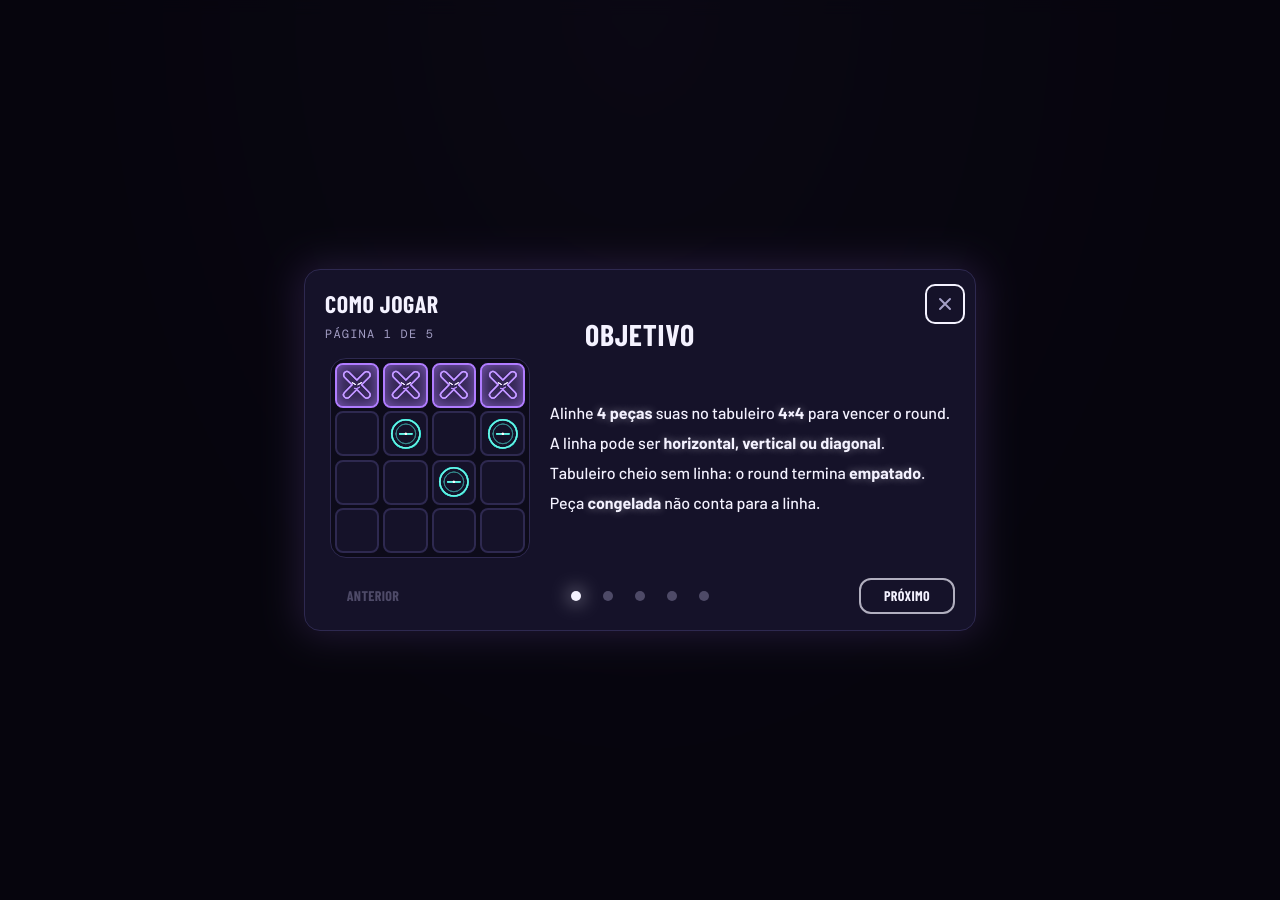
Scenario: HowToPlayModal — carrossel das habilidades › mostra nome, tipo e descrição de ABILITY_INFO, uma habilidade por vez
Click the button named "Página 3 de 5: Habilidades". click: (640, 596)
box: [624, 580, 656, 612]
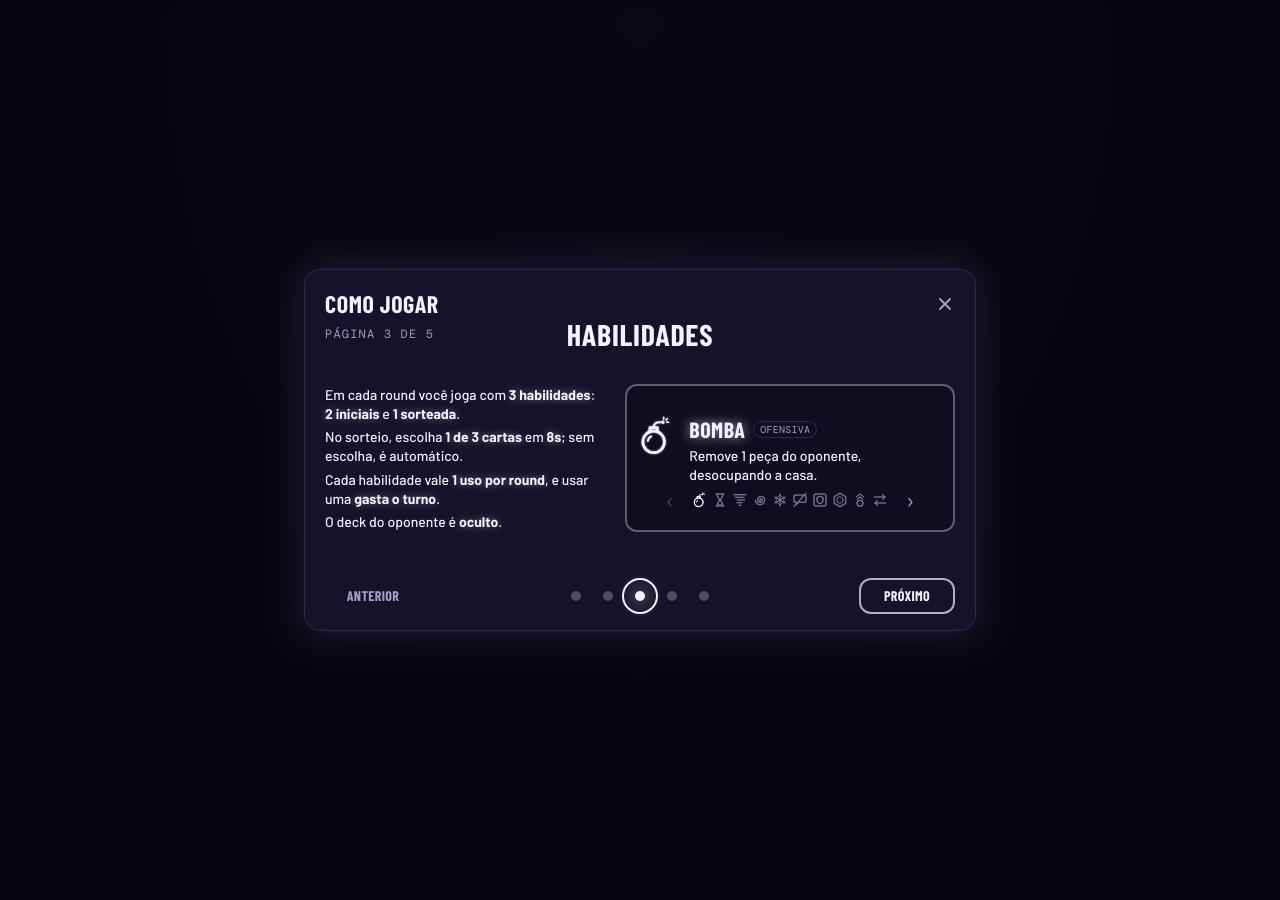
Expected: the text "Bomba" is shown, [689, 416, 745, 444]
Expected: the text "Remove 1 peça do oponente, desocupando a casa." is shown, [689, 446, 862, 483]
